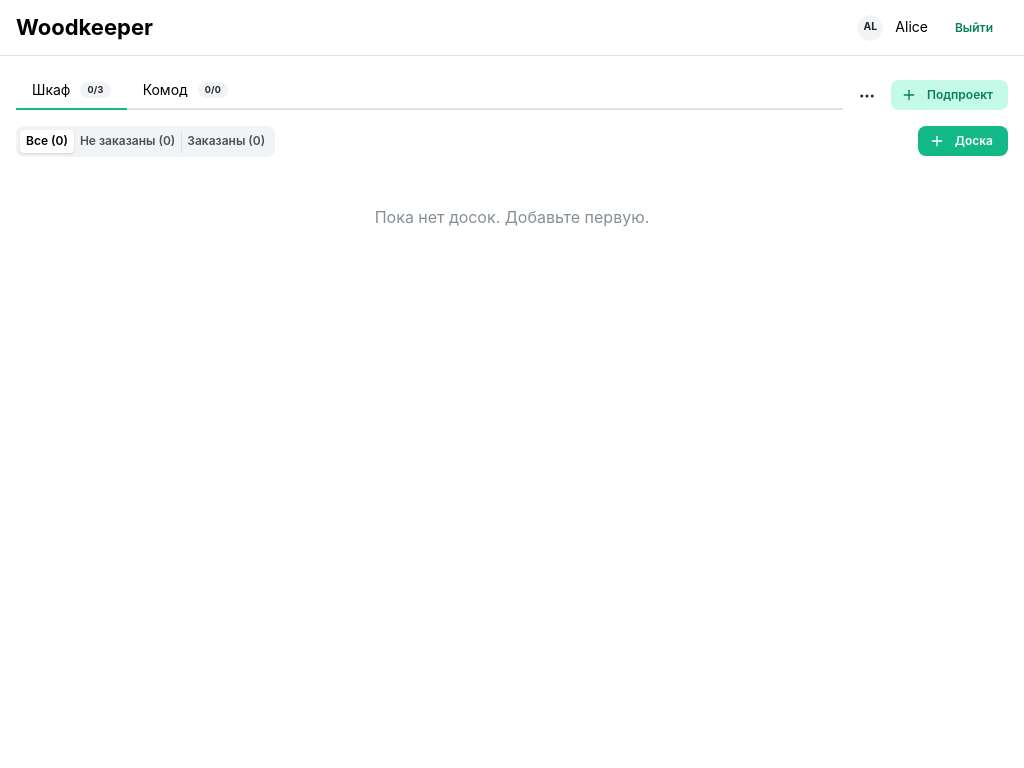
Scenario: projects UI › deletes a project after confirmation that warns about boards
Click the button named "Действия с подпроектом".
click(867, 96)  # box [853,82,881,110]
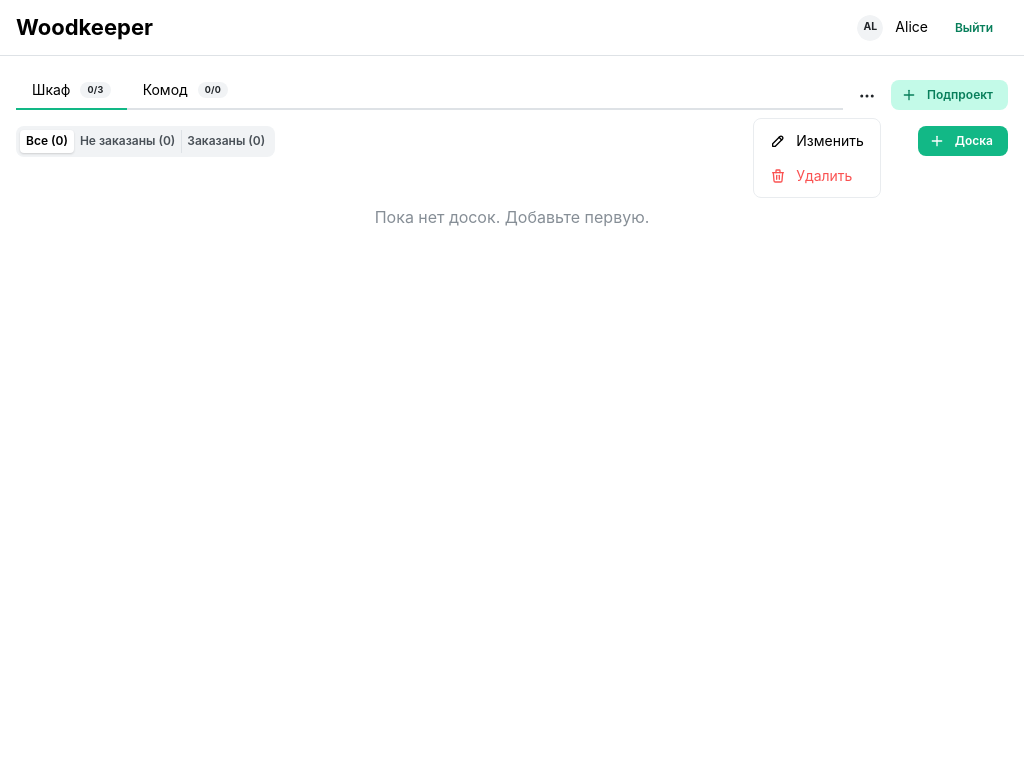
Click the menu item "Удалить".
click(817, 176)  # box [758,158,876,193]
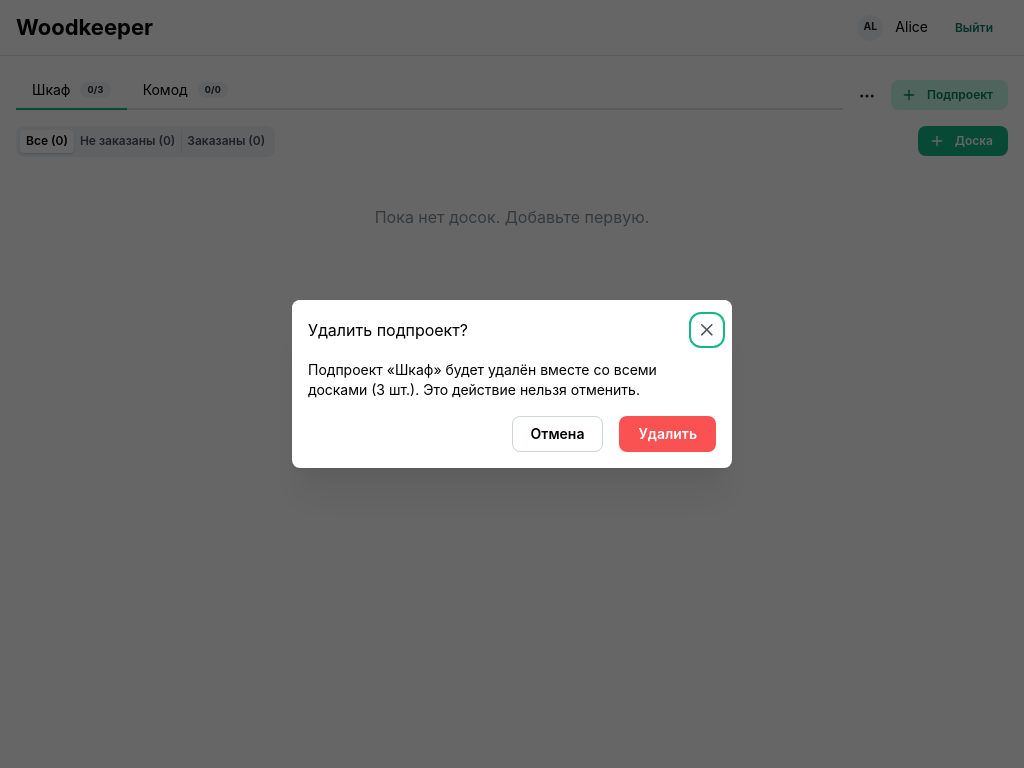
Now the text "вместе со всеми досками (3 шт.)" is shown, box [308,361,657,398]
Click the button "Удалить".
click(668, 434)  # box [619,416,716,452]
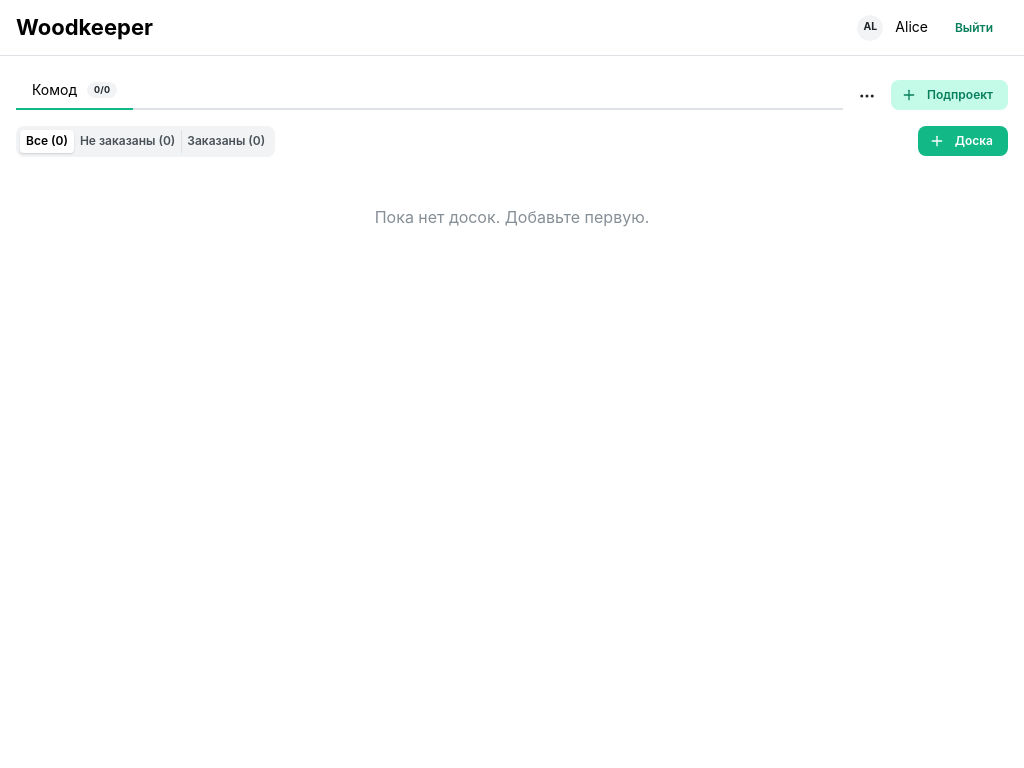
Now the tab "Шкаф" is gone
